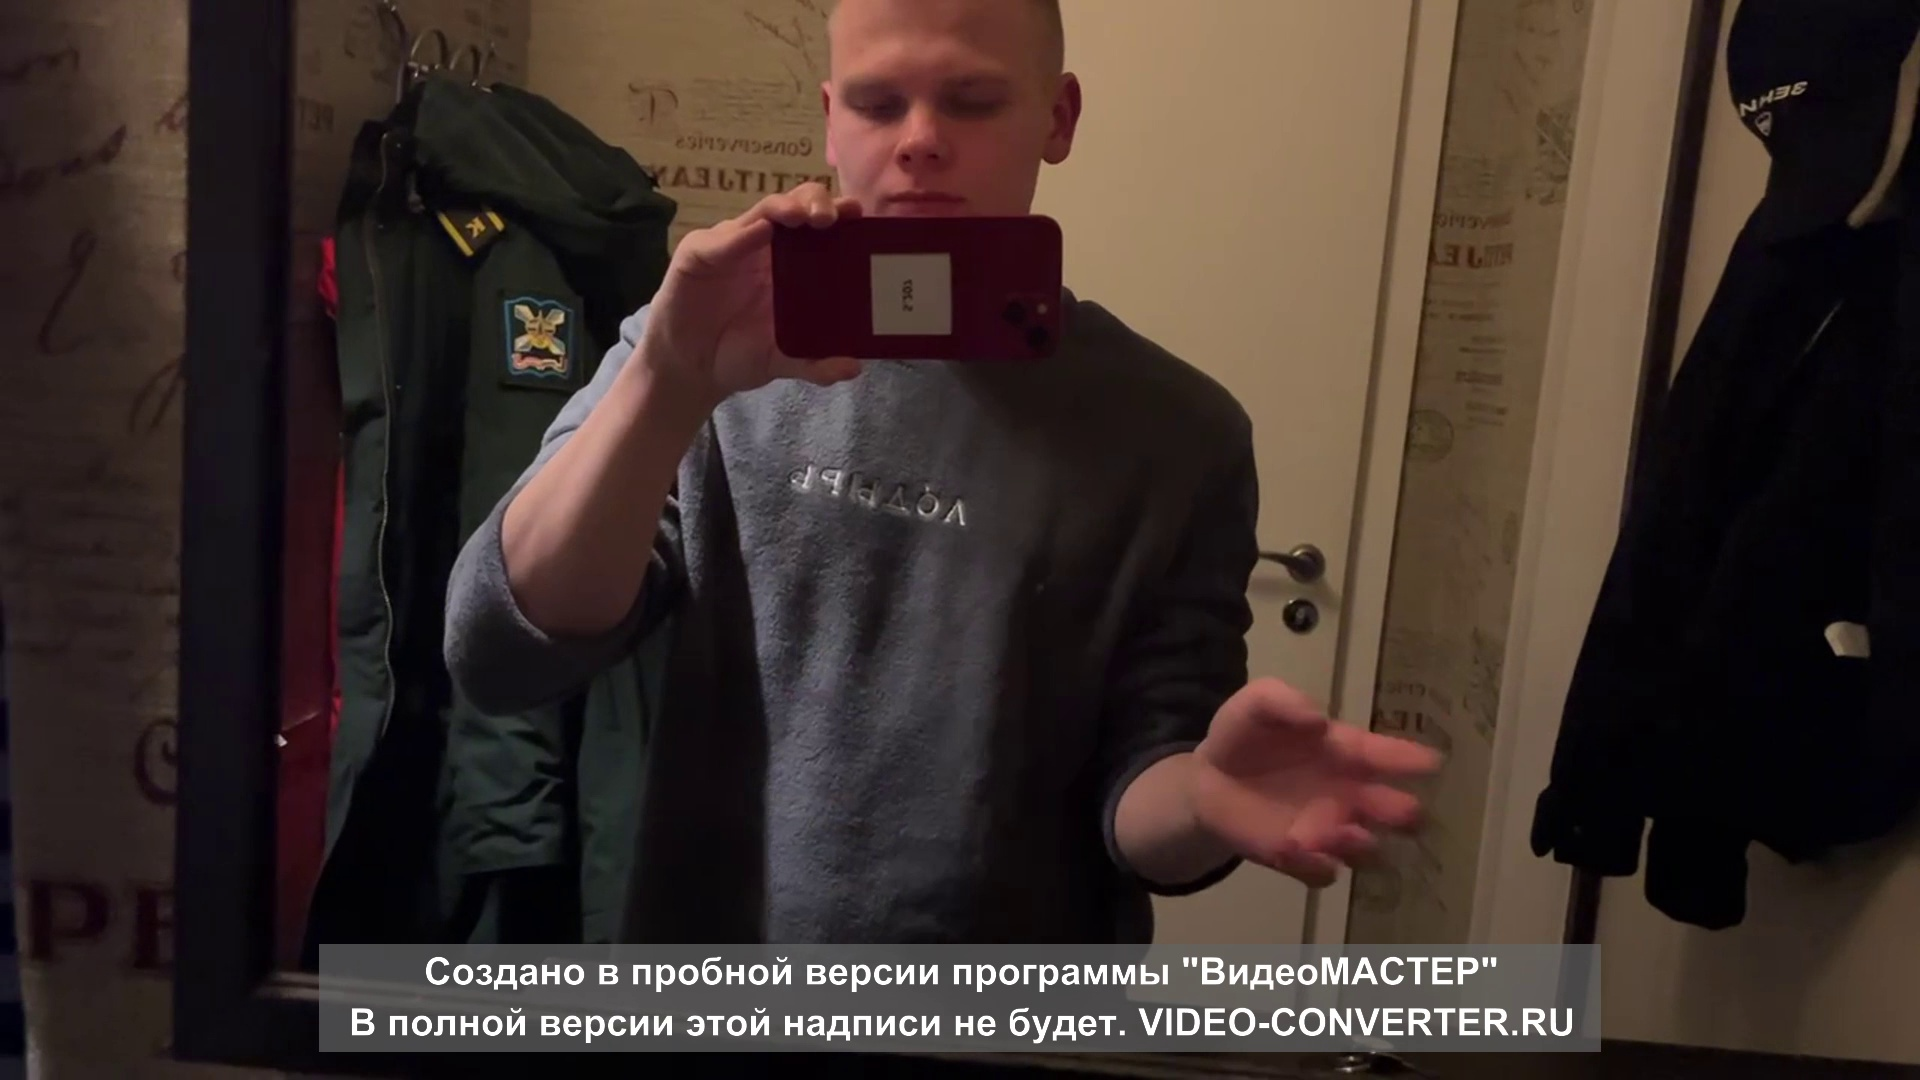Ладонь: (1201, 676, 1443, 889)
